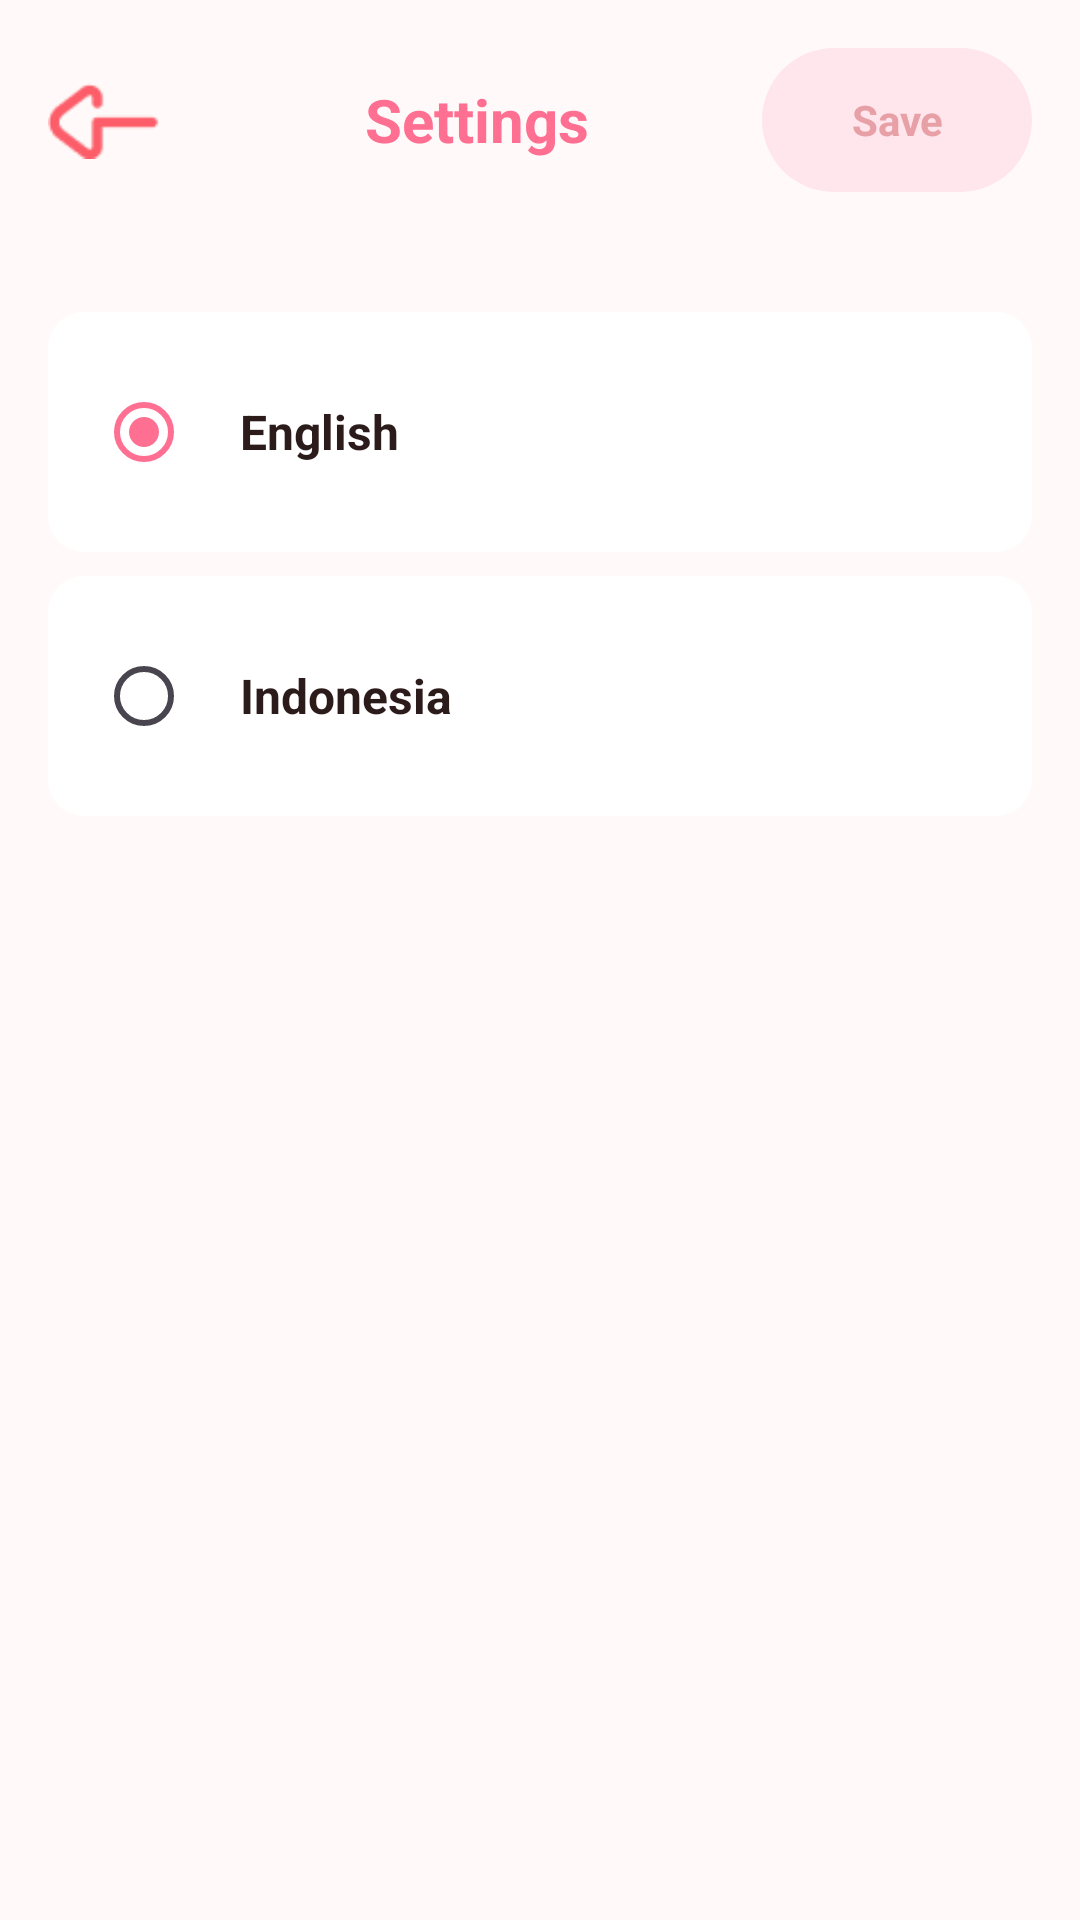

Icon click points for this 1080*1920 phone screenshot, format point (x, y):
Back button: point (103, 122)
